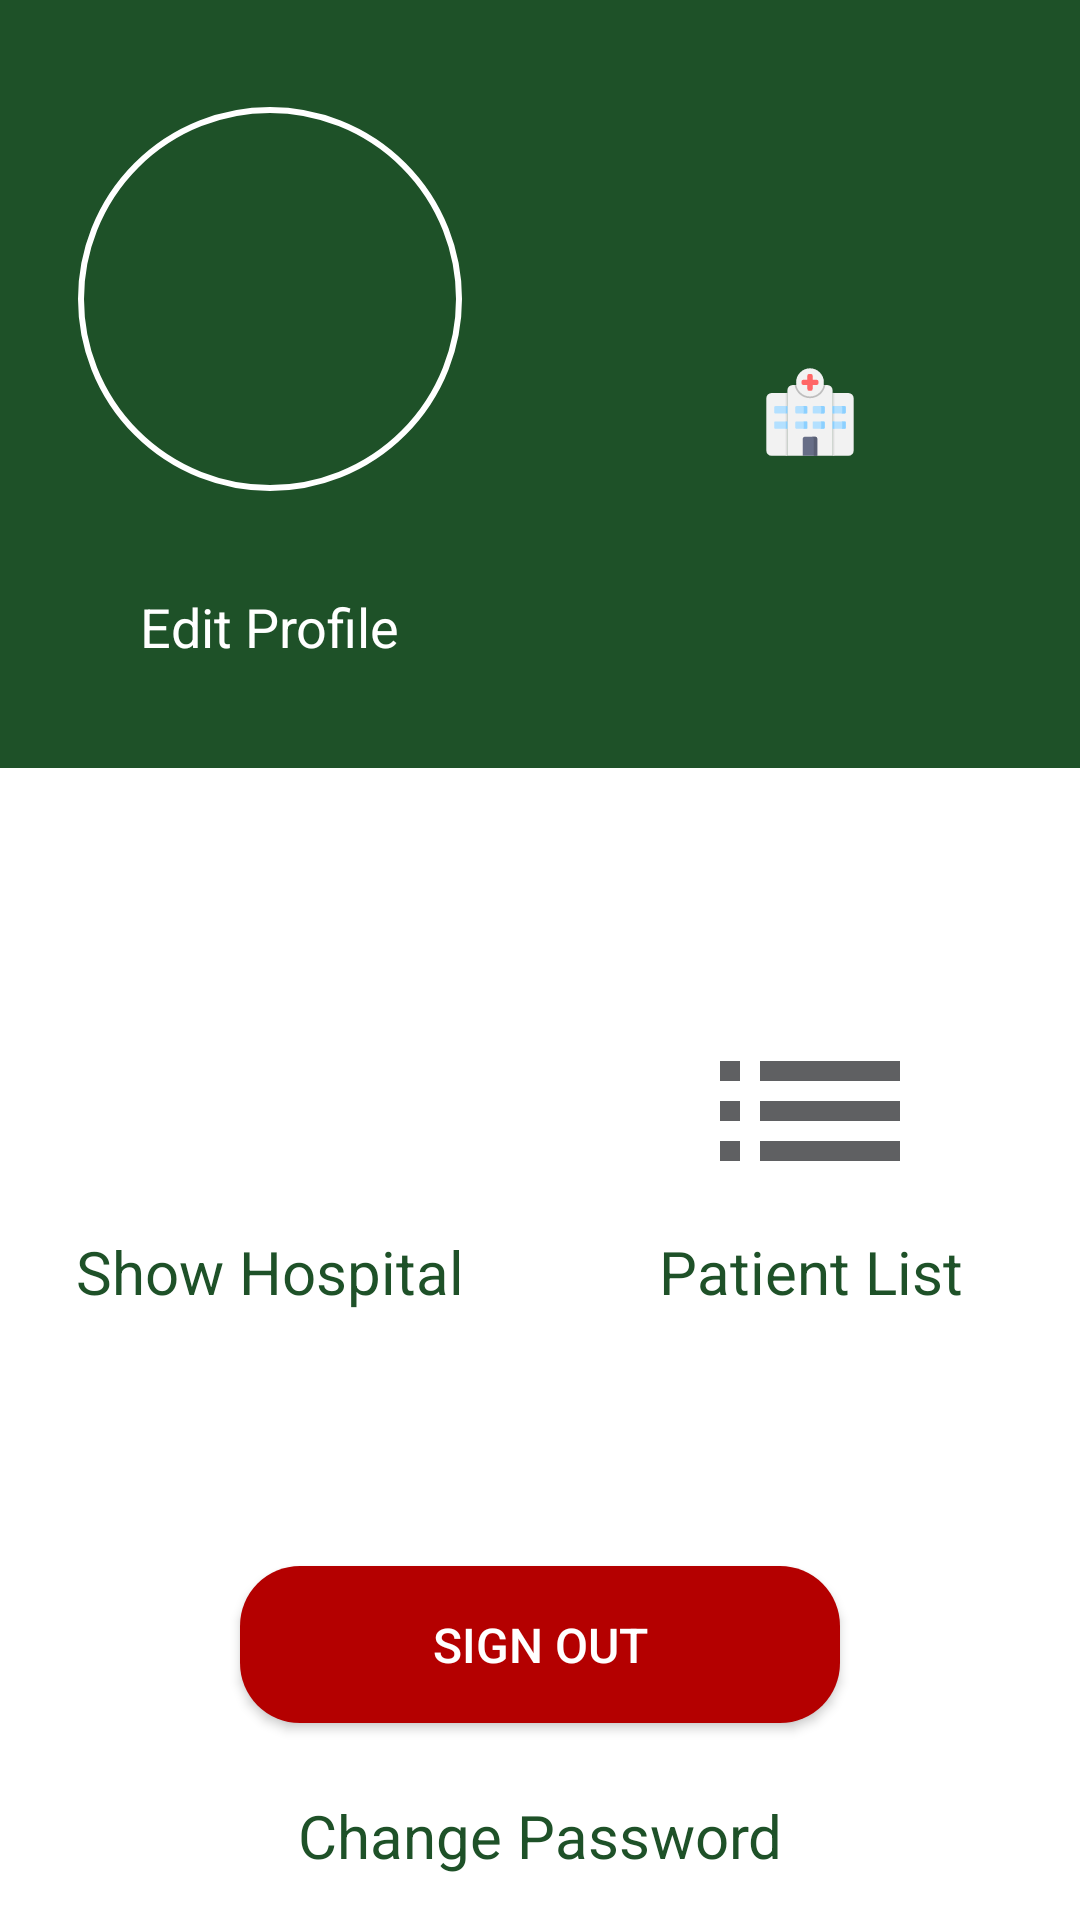

Named icons in this screenshot (1080x1920) and their bounding boxes, bbox=(x1, y1, x2, y2):
hospital: bbox=(766, 368, 854, 456)
